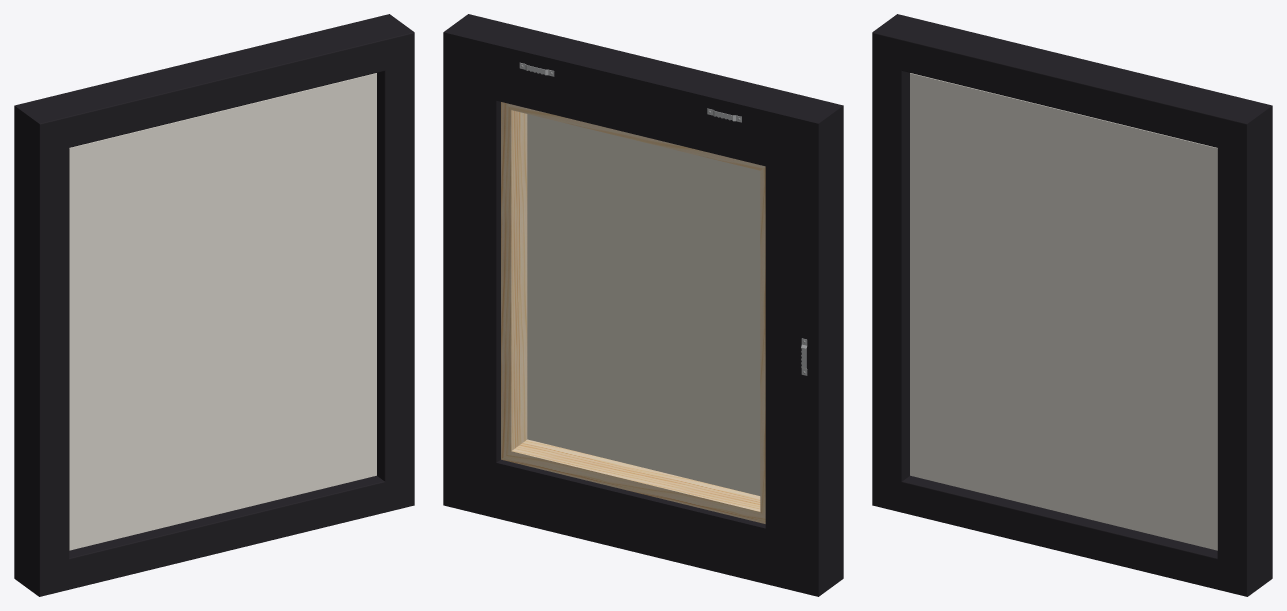
File: decoded-from-delivery.glb
3 renders of one model, left to right at view 1: azimuth 30°, elevation 25°; view 2: azimuth 150°, elevation 25°; view 3: azimuth 330°, elevation 25°, orthographic.
Visible parts, largest first — view 1: Canvas artwork front, Tray approved profile 0; view 2: Tray approved profile 0, Canvas linen reverse, Stretcher top, Sawtooth hanger 0; view 3: Canvas artwork front, Tray approved profile 0.
Boxes of the visible parts, <box> form: Canvas artwork front: <box>69,73,376,550</box>; Tray approved profile 0: <box>14,14,414,596</box>; Tray approved profile 0: <box>443,14,843,596</box>; Canvas linen reverse: <box>527,114,760,495</box>; Stretcher top: <box>501,102,765,523</box>; Sawtooth hanger 0: <box>519,62,807,375</box>; Canvas artwork front: <box>910,73,1217,550</box>; Tray approved profile 0: <box>872,14,1272,596</box>.
Bounding box in the file's own units: 0.488 × 0.588 × 0.0594.
7 materials, 2 textured.
